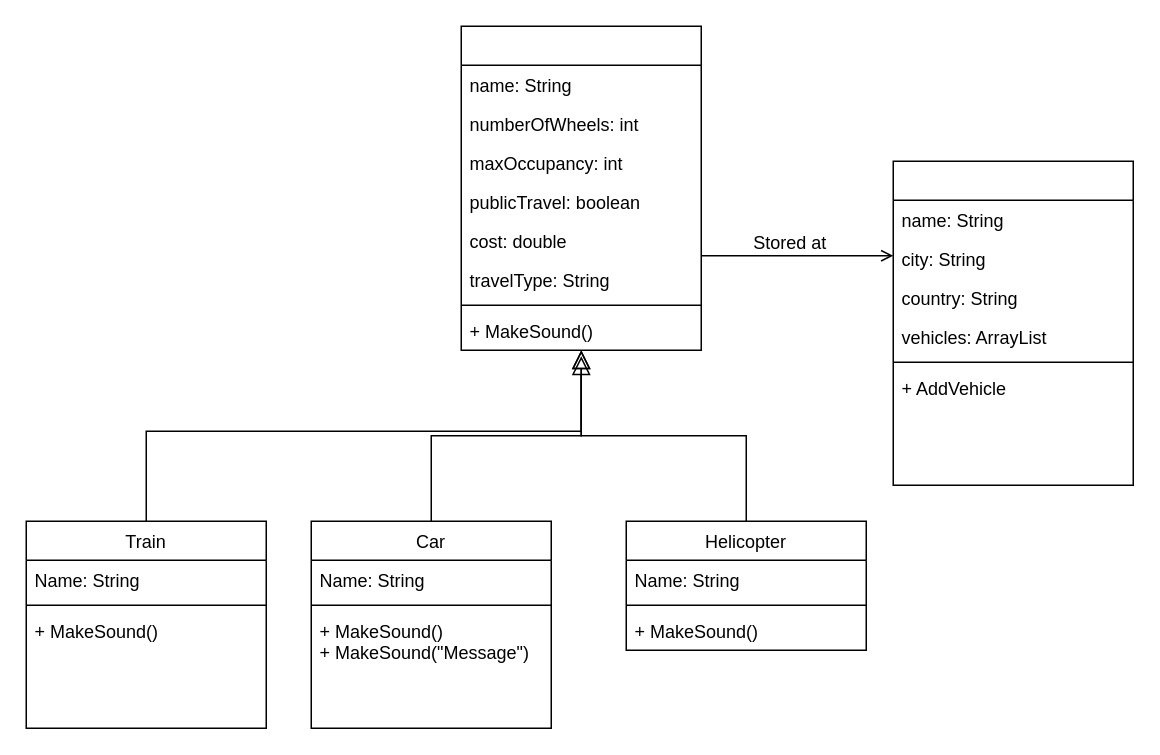
Image size: 1160x755. Some labels were removed from this diagram. The shapes that lost their labels are listed below. From the top down, each one's box as (x1, y1, x2, y2) in pixels, then its label:
(460, 25, 701, 350): Vehicle
(892, 160, 1133, 485): Hangar
